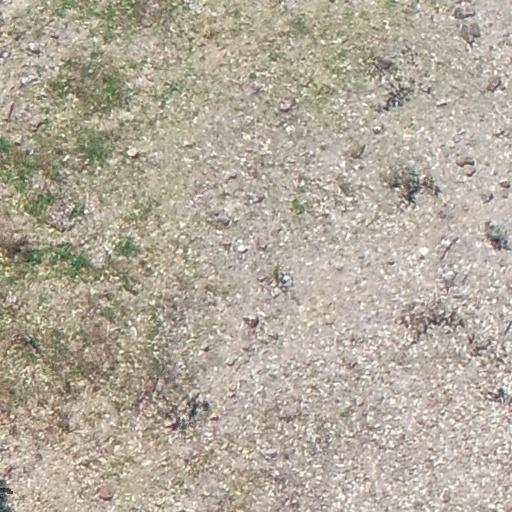stone: (459, 21, 481, 47), (451, 2, 477, 20), (96, 482, 116, 502), (372, 56, 396, 72), (484, 75, 504, 94), (439, 266, 458, 286), (277, 96, 297, 113), (243, 312, 261, 330), (214, 209, 232, 227), (18, 75, 39, 90), (454, 154, 476, 168), (145, 152, 163, 168), (244, 193, 266, 206), (349, 143, 366, 159), (255, 237, 271, 253), (28, 119, 46, 133), (402, 3, 421, 16), (27, 40, 44, 52), (480, 190, 494, 204), (249, 83, 264, 96), (225, 356, 239, 368), (464, 165, 477, 177), (492, 128, 506, 139), (270, 286, 282, 298), (418, 246, 430, 258), (441, 487, 450, 503), (356, 394, 368, 406), (498, 178, 511, 189), (224, 172, 238, 182), (266, 331, 280, 341), (12, 136, 27, 145), (371, 124, 383, 135), (143, 72, 155, 83), (182, 139, 196, 148), (0, 49, 11, 60), (128, 146, 138, 158), (237, 246, 251, 254), (435, 99, 449, 107), (208, 413, 220, 422), (199, 344, 210, 353), (48, 32, 60, 40), (441, 238, 451, 246)
